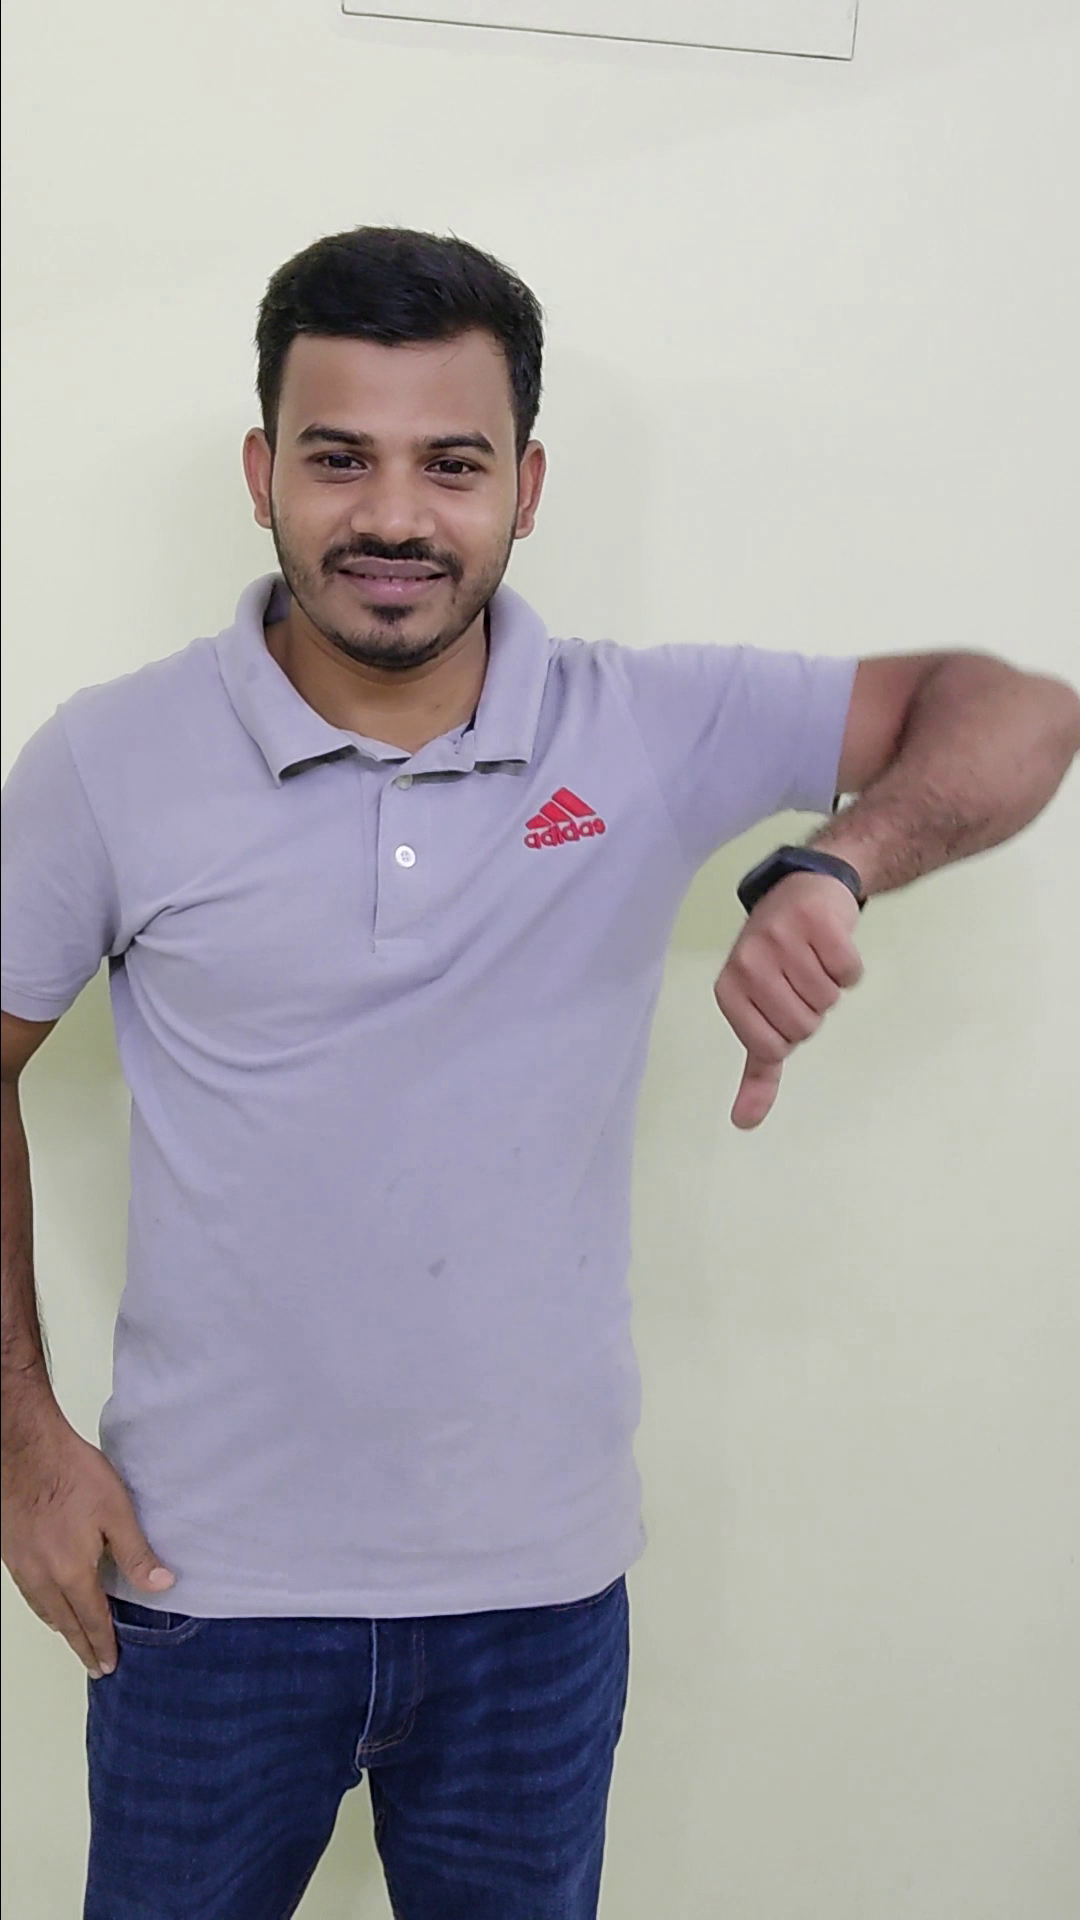Dislike: (671, 831, 922, 1159)
None: (3, 1391, 189, 1683)
